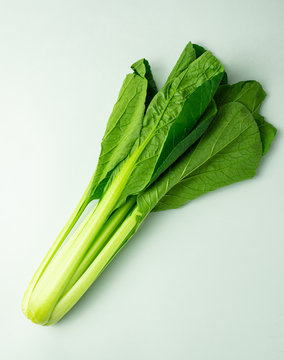Sawi: (23, 33, 276, 344)
